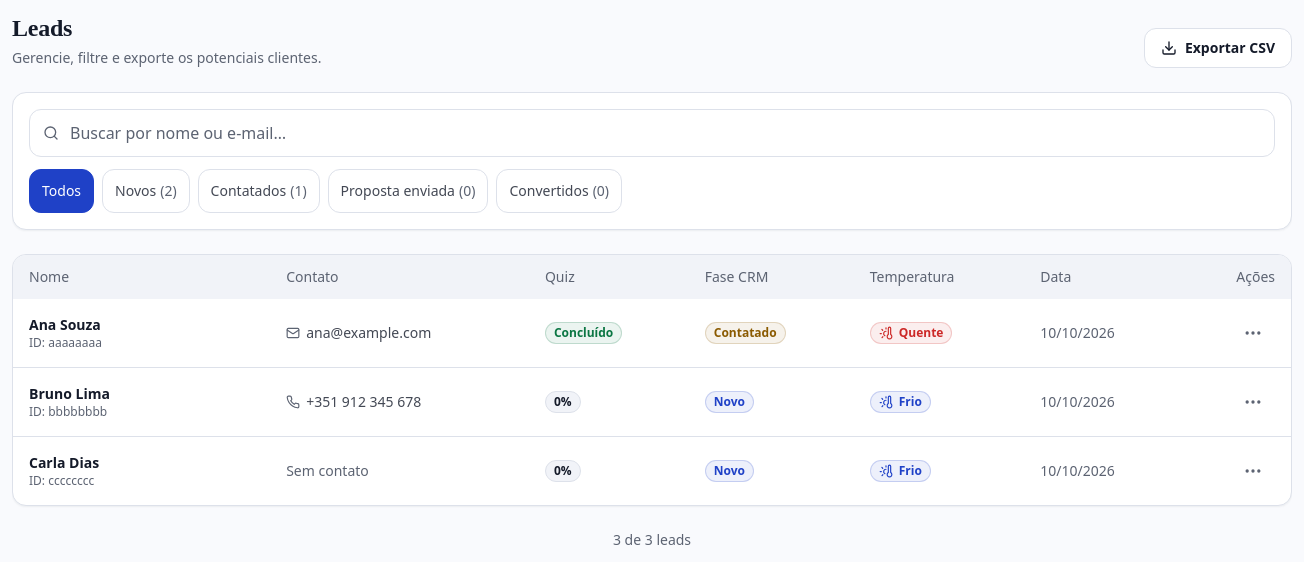
Test: AdminLeadsPage (DI-073 / DI-088 / DI-080) › busca por nome ou e-mail
The image size is (1304, 562).
Type "EXAMPLE.COM" into the search field named "Buscar leads". click: (652,133)
box: [29,109,1275,157]
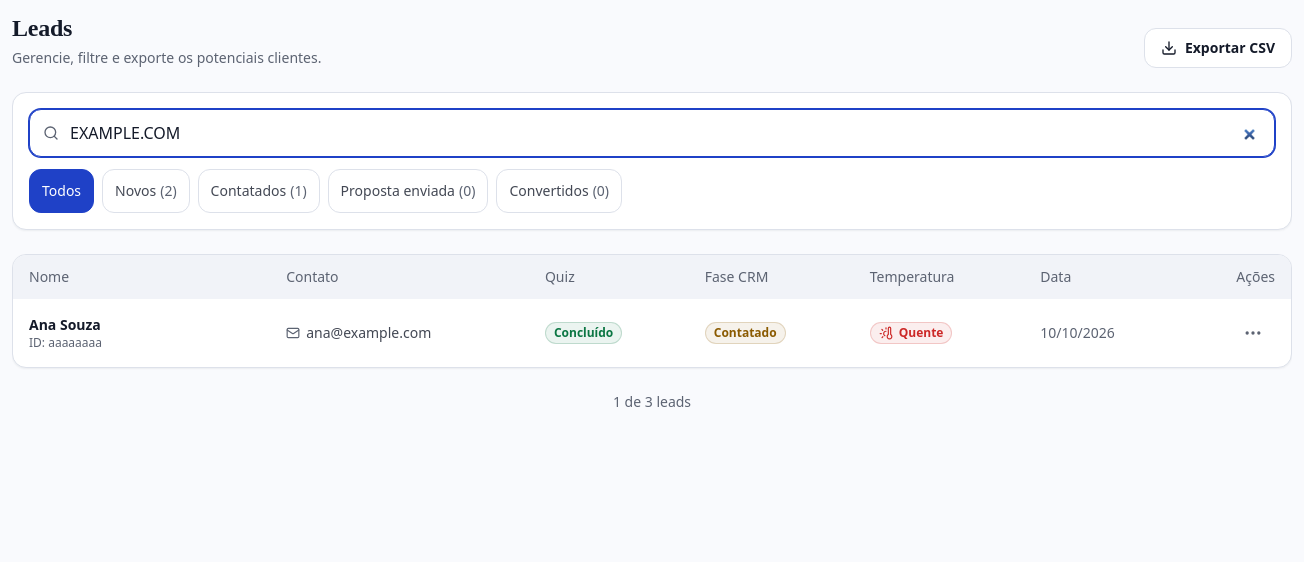
Expected: the text "Bruno Lima" is gone
